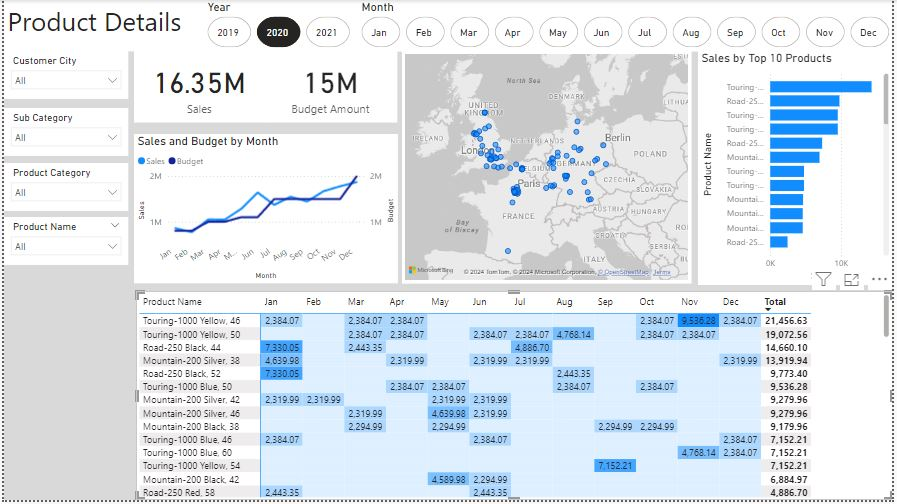

The page's visual inventory and layout, read from the dashboard file:
{"tool":"powerbi","page":{"name":"Product Details","canvas":[1280,720],"ordinal":2},"visuals":[{"type":"textbox","box":[0,0,1280,73.8],"z":0},{"type":"slicer","fields":{"Values":["DIM_Customers.Customer City"]},"box":[0,74,179,69],"z":1000},{"type":"slicer","fields":{"Values":["DIM_Products.Sub Category"]},"box":[0,155,179,69],"z":2000},{"type":"slicer","fields":{"Values":["DIM_Products.Product Category"]},"box":[0,234,179,69],"z":3000},{"type":"slicer","fields":{"Values":["DIM_Products.Product Name"]},"box":[0,313,179,69],"z":4000},{"type":"advancedSlicerVisual","fields":{"Values":["DIM_Calendar.Year"]},"box":[288.3,0,215,73.3],"z":5000},{"type":"advancedSlicerVisual","title":"Month","fields":{"Values":["DIM_Calendar.MonthShort"]},"box":[510,0,770,73.8],"z":6000},{"type":"map","fields":{"Category":["DIM_Customers.Customer City"]},"box":[573.3,73.3,416.7,335],"z":7000},{"type":"lineChart","title":"Sales and Budget by Month","fields":{"Category":["DIM_Calendar.MonthShort"],"Y":["Key_Measures.Sales"],"Y2":["Key_Measures.Budget Amount"]},"box":[186.7,193.3,380,215],"z":8000},{"type":"barChart","title":"Sales by Top 10 Products","fields":{"Y":["Key_Measures.Sales"],"Category":["DIM_Products.Product Name"]},"box":[1000,73.3,280,336.7],"z":9000},{"type":"card","fields":{"Values":["Key_Measures.Sales"]},"box":[186.7,73.3,188.3,103.3],"z":10000},{"type":"card","fields":{"Values":["Key_Measures.Budget Amount"]},"box":[375,73.3,191.7,103.3],"z":11000},{"type":"pivotTable","fields":{"Columns":["DIM_Calendar.MonthShort"],"Rows":["DIM_Products.Product Name"],"Values":["Key_Measures.Sales"]},"box":[190,418.3,1090,301.7],"z":13000}]}

Visuals, with their boxes in screenshot pixels (x1, y1, x2, y2), scaled from the page's 1280x720 canvas onto the 897x504 screenshot:
textbox: l=0, t=0, r=896, b=52
slicer - DIM_Customers.Customer City: l=0, t=52, r=125, b=100
slicer - DIM_Products.Sub Category: l=0, t=108, r=125, b=157
slicer - DIM_Products.Product Category: l=0, t=164, r=125, b=212
slicer - DIM_Products.Product Name: l=0, t=219, r=125, b=267
advancedSlicerVisual - DIM_Calendar.Year: l=202, t=0, r=353, b=51
"Month" advancedSlicerVisual: l=357, t=0, r=896, b=52
map - DIM_Customers.Customer City: l=402, t=51, r=694, b=286
"Sales and Budget by Month" lineChart: l=131, t=135, r=397, b=286
"Sales by Top 10 Products" barChart: l=701, t=51, r=896, b=287
card - Key_Measures.Sales: l=131, t=51, r=263, b=124
card - Key_Measures.Budget Amount: l=263, t=51, r=397, b=124
pivotTable - DIM_Calendar.MonthShort x DIM_Products.Product Name: l=133, t=293, r=896, b=503
